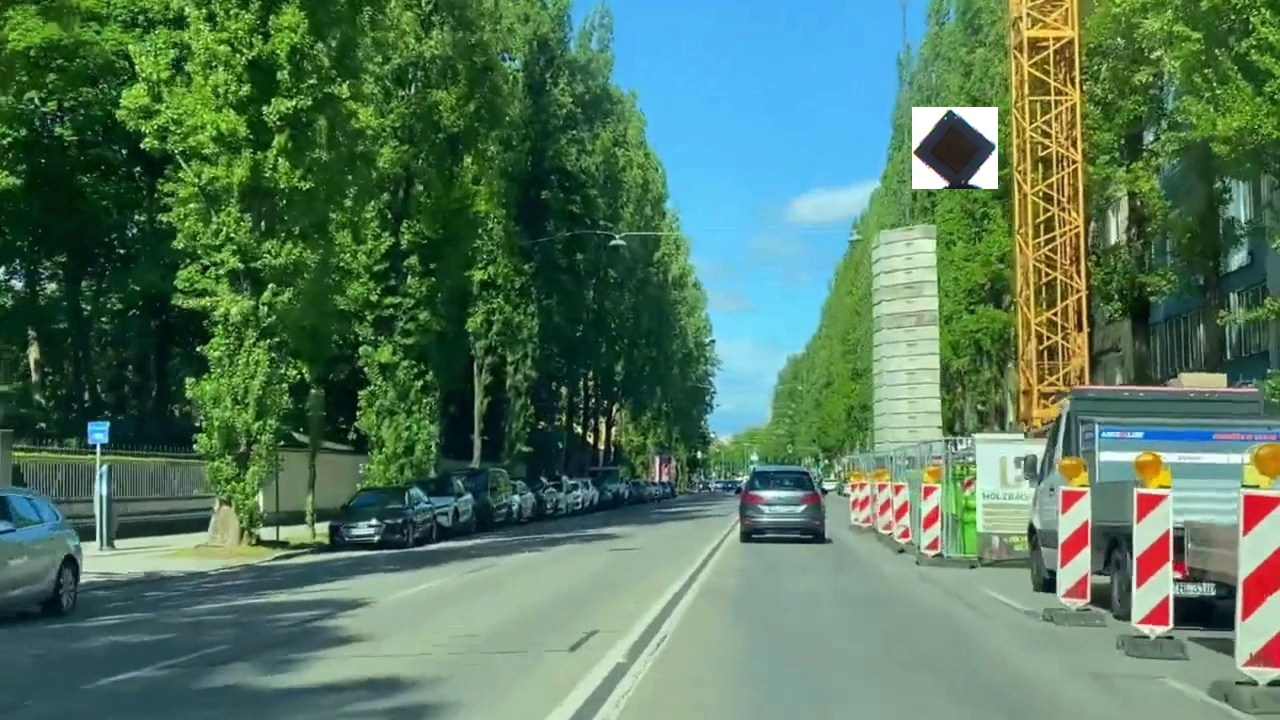Priority road: (912, 107, 998, 189)
